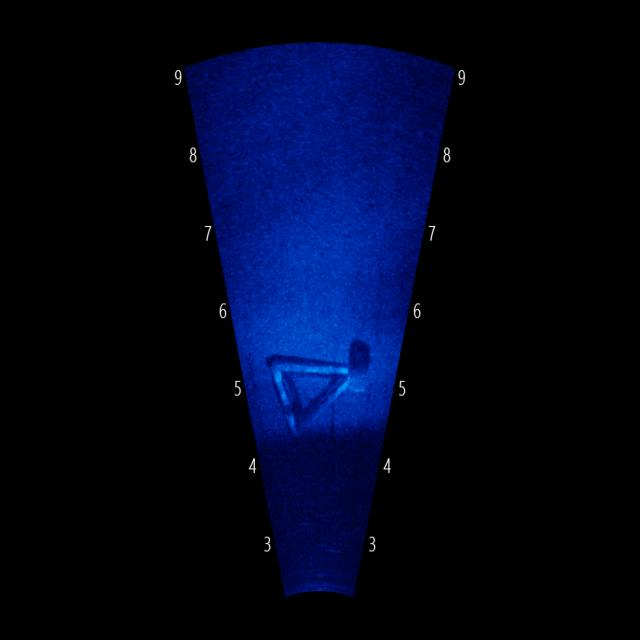triangle: (259, 334, 367, 447)
